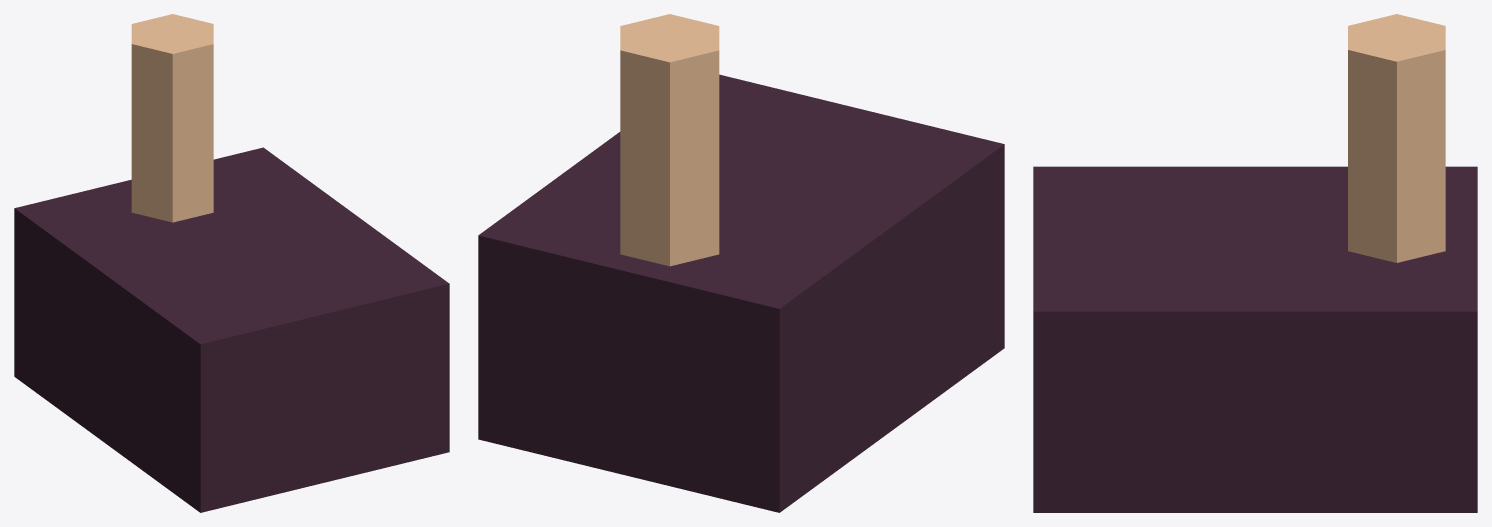
File: pip_foot.glb
3 renders of one model, left to right at view 1: azimuth 30°, elevation 25°; view 2: azimuth 150°, elevation 25°; view 3: azimuth 270°, elevation 25°, orthographic. The views are drawn at different scales.
Parts seen in each view (by area): view 1: FootR; view 2: FootR; view 3: FootR.
Boxes of the visible parts, x1=… form: FootR: x1=14, y1=14, x2=449, y2=512; FootR: x1=478, y1=14, x2=1004, y2=512; FootR: x1=1033, y1=14, x2=1477, y2=512.
Bounding box in the file's own units: 0.17 × 0.22 × 0.22.
